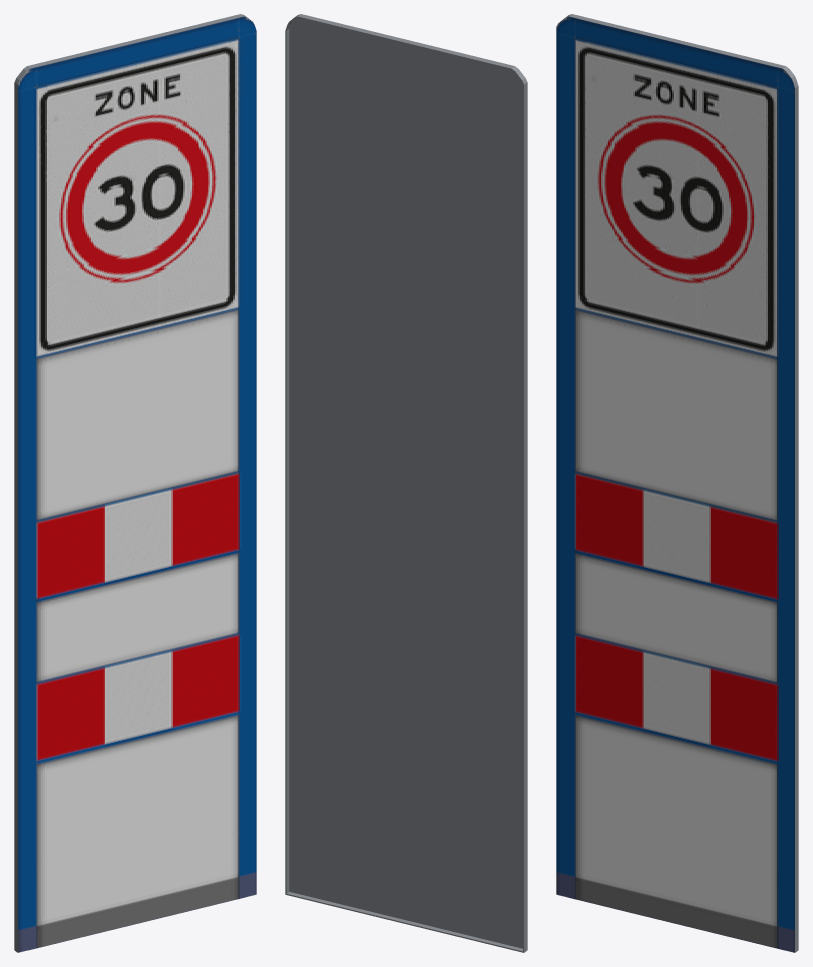
3 renders of one model, left to right at view 1: azimuth 30°, elevation 25°; view 2: azimuth 150°, elevation 25°; view 3: azimuth 330°, elevation 25°, orthographic.
Parts seen in each view (by area): view 1: cat_134e41bdb905a636; view 2: cat_134e41bdb905a636; view 3: cat_134e41bdb905a636.
Boxes of the visible parts, box(x1,y1,x2,y2) form: cat_134e41bdb905a636: box(14, 14, 256, 952); cat_134e41bdb905a636: box(285, 14, 527, 952); cat_134e41bdb905a636: box(556, 14, 798, 952).
Bounding box in the file's own units: 0.6 × 0.015 × 2.12.
Materials: 2 (1 with a texture image).
